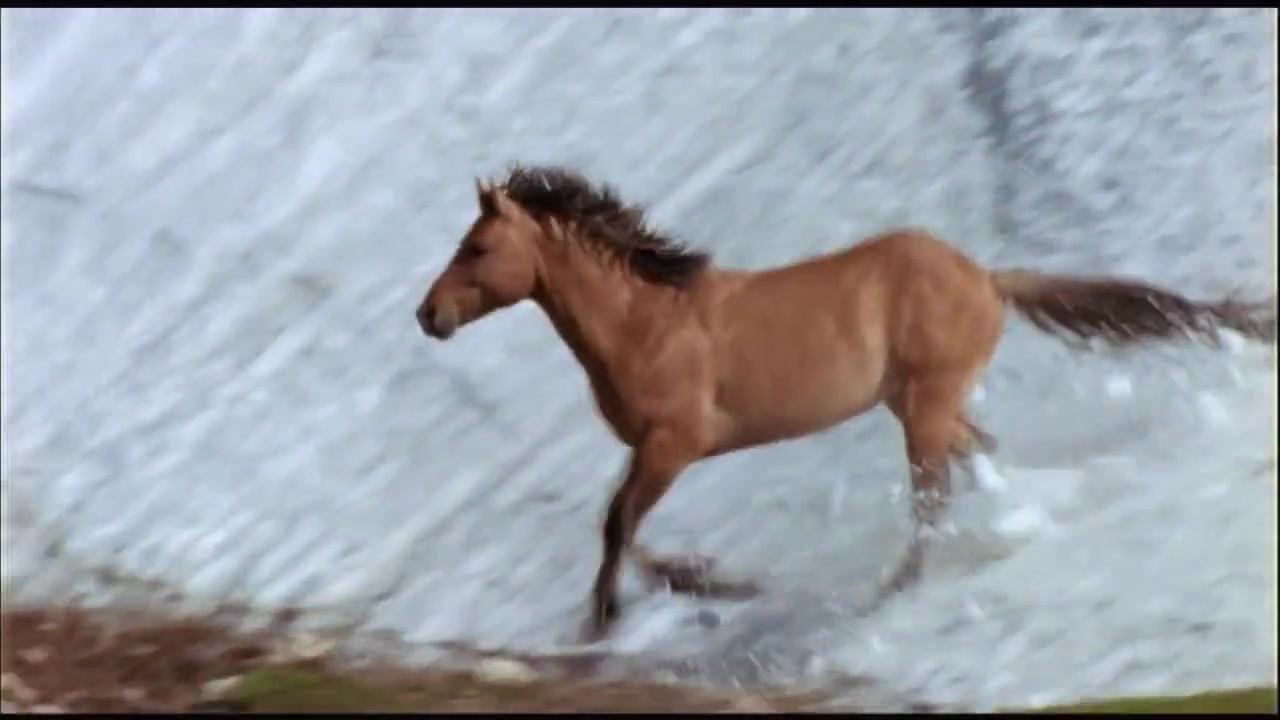horse: (413, 162, 1277, 643)
